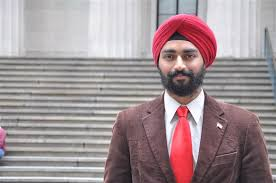helmet: (150, 12, 218, 95)
